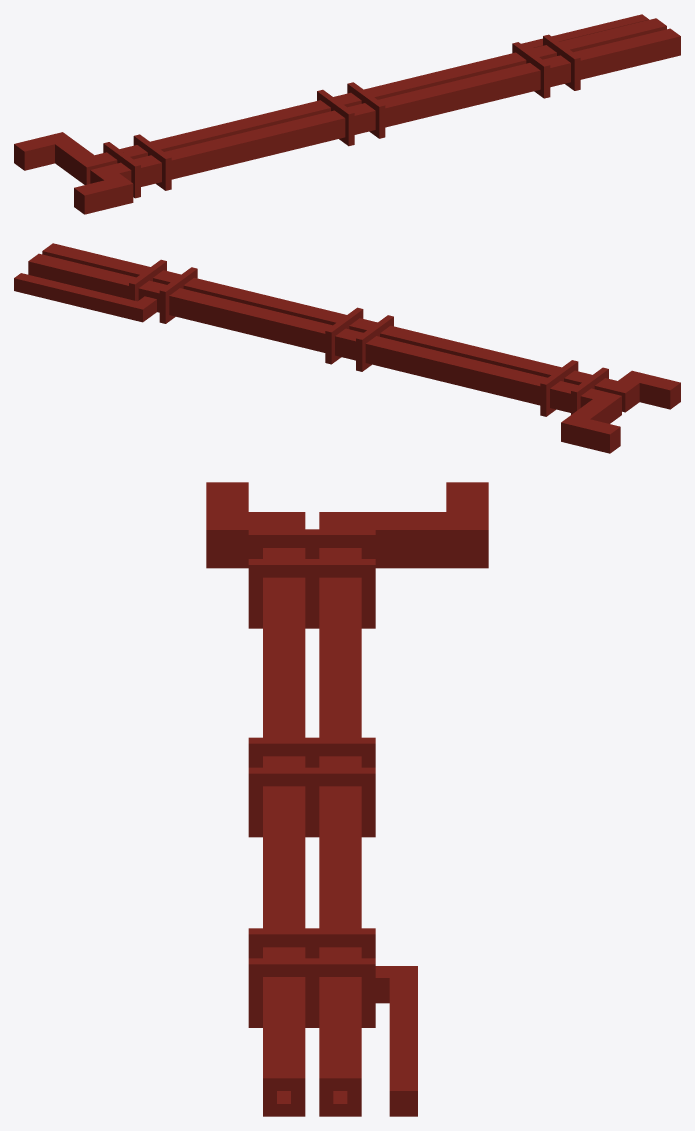
File: pipe.obj
3 views of the same model, one above another, from view 1: azimuth 30°, elevation 25°; view 2: azimuth 150°, elevation 25°; view 3: azimuth 270°, elevation 25° (orthographic). The views are drawn at different scales.
Size of the model in its own units: 10 by 0.5 by 2.
1 material, 1 textured.
